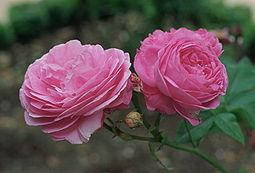Rose: (18, 43, 134, 137), (131, 20, 230, 124)
